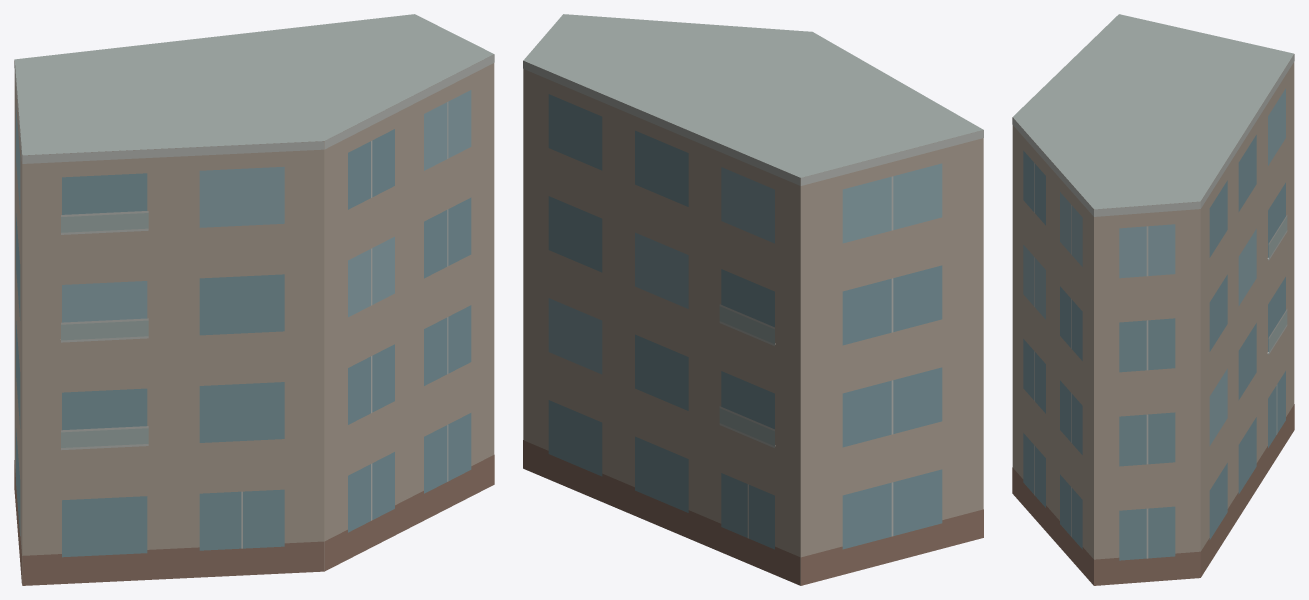
Rendered from survey-upis-32815399.glb.
3 views of the same model, side by side, from view 1: azimuth 30°, elevation 25°; view 2: azimuth 150°, elevation 25°; view 3: azimuth 270°, elevation 25° (orthographic). The views are drawn at different scales.
Visible parts, largest first — view 1: survey-upis-32815399.tmp; view 2: survey-upis-32815399.tmp; view 3: survey-upis-32815399.tmp.
Boxes of the visible parts, x1,y1,x2,y2 form: survey-upis-32815399.tmp: (14,14,494,585); survey-upis-32815399.tmp: (523,14,983,585); survey-upis-32815399.tmp: (1012,14,1294,585).
Bounding box in the file's own units: 13.54 × 12.15 × 8.26.
